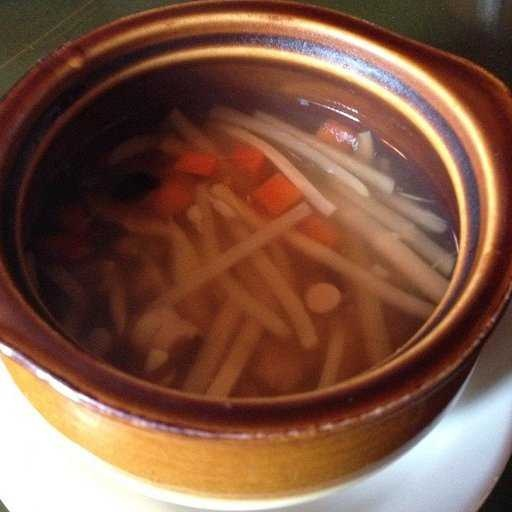soup: (6, 6, 494, 416)
